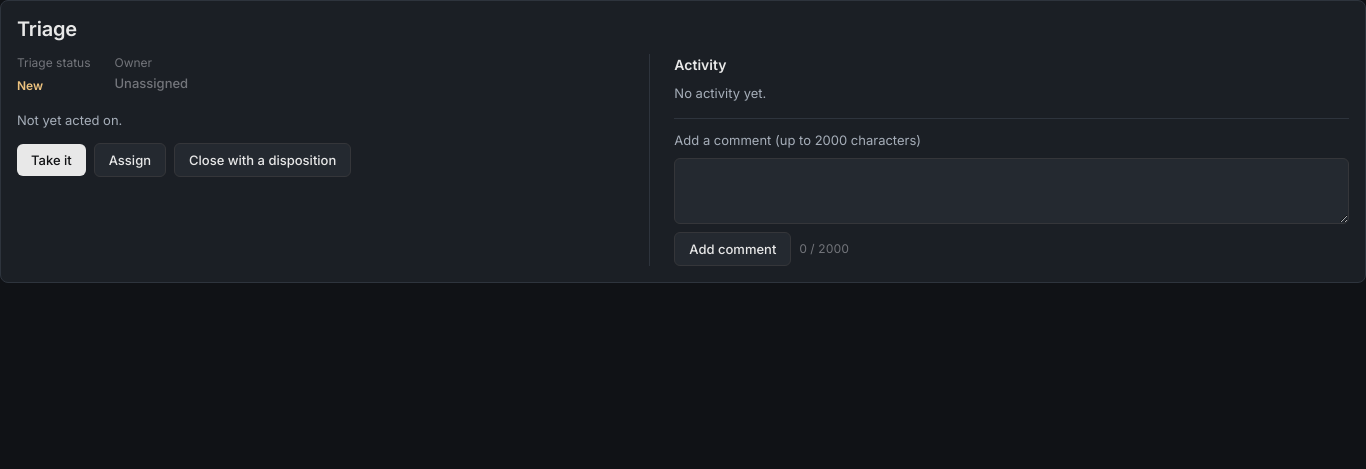
Test: close with a disposition › bounds the note and shows its length
Click the button "Close with a disposition": (263,160) x1=174 y1=143 x2=351 y2=177
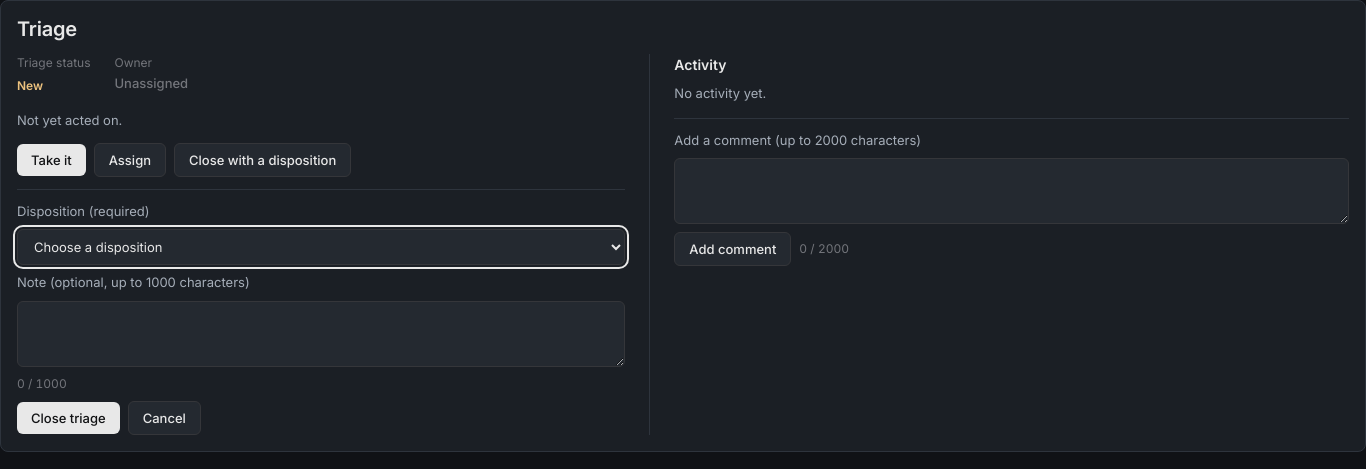
In the text box labelled "Note (optional, up to 1000 characters)": (321,334) x1=17 y1=301 x2=625 y2=367, type "abc"
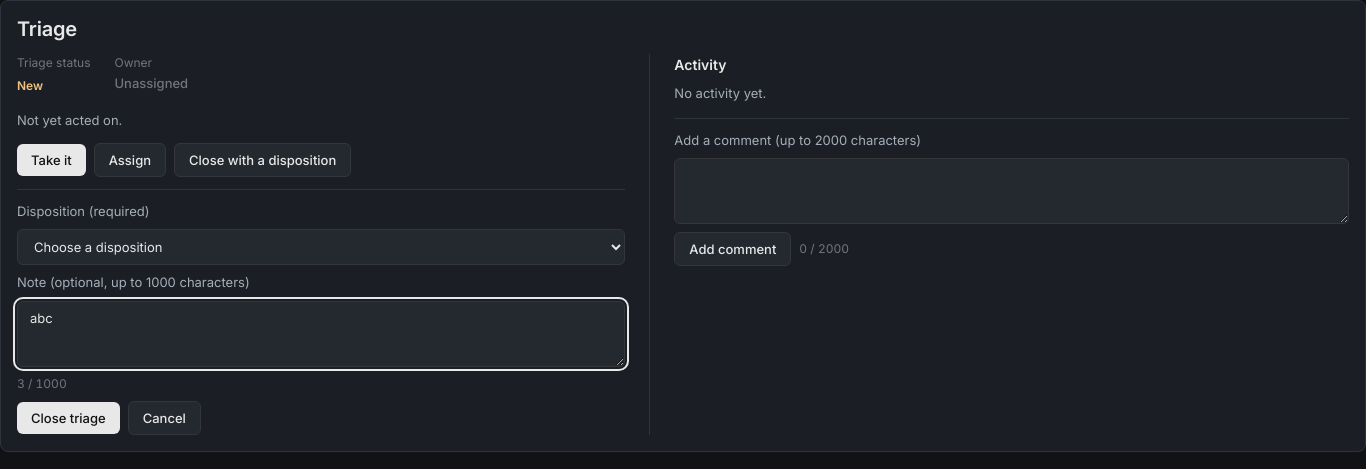
Check: the text "3 / 1000" is shown, box x1=17 y1=376 x2=67 y2=391
